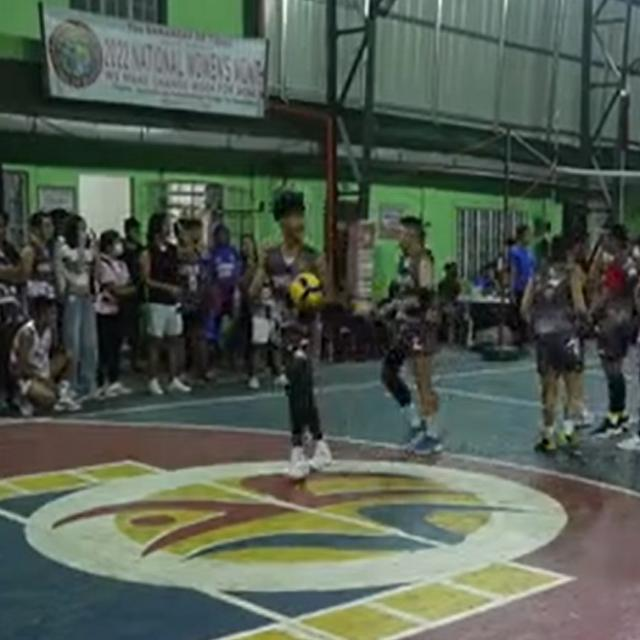volleyball: (290, 274, 323, 306)
